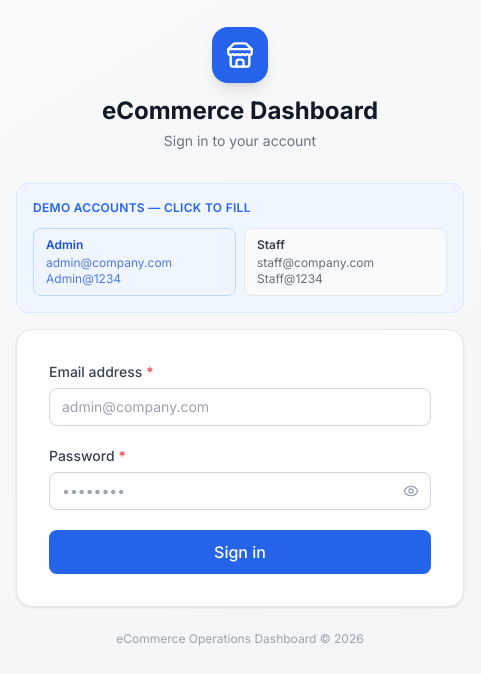
Test: Auth — Login flow › shows field error for invalid email format
Type "not-an-email" into the field labelled "Email address*" at coordinates (240, 407), box [49,388,431,426]
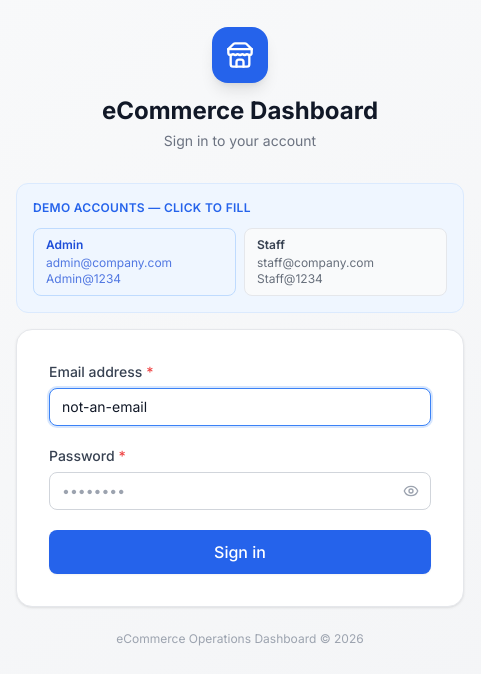
Type "password123" into the password field labelled "Password*" at coordinates (240, 491), box [49,472,431,510]
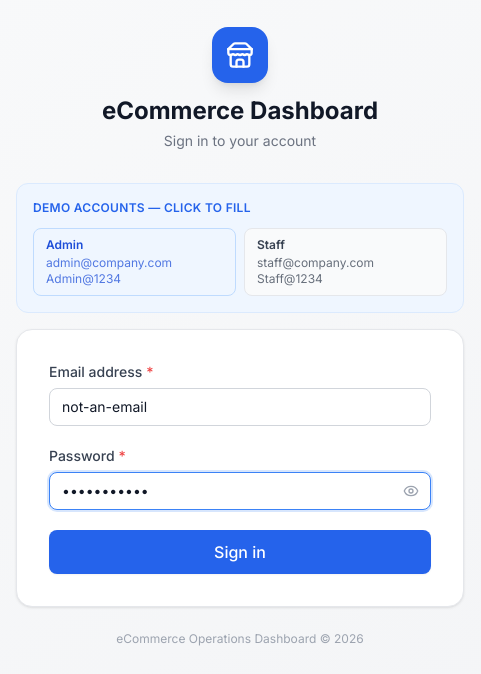
Click the button "Sign in" at coordinates (240, 552), box [49,530,431,574]
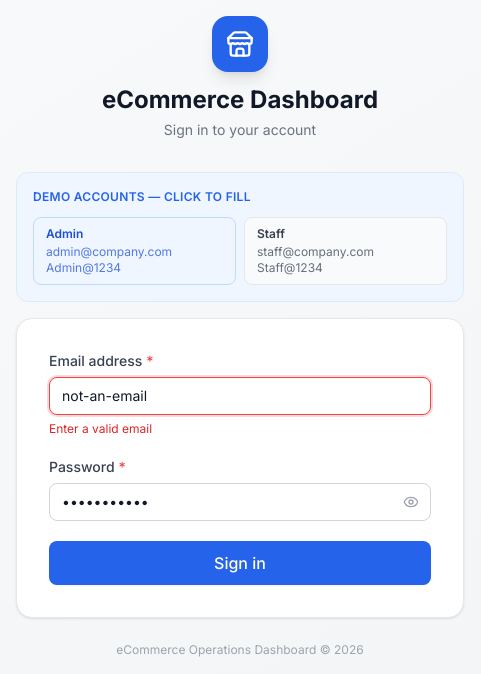
Check: the text "Enter a valid email" is shown, box [49,421,152,436]
